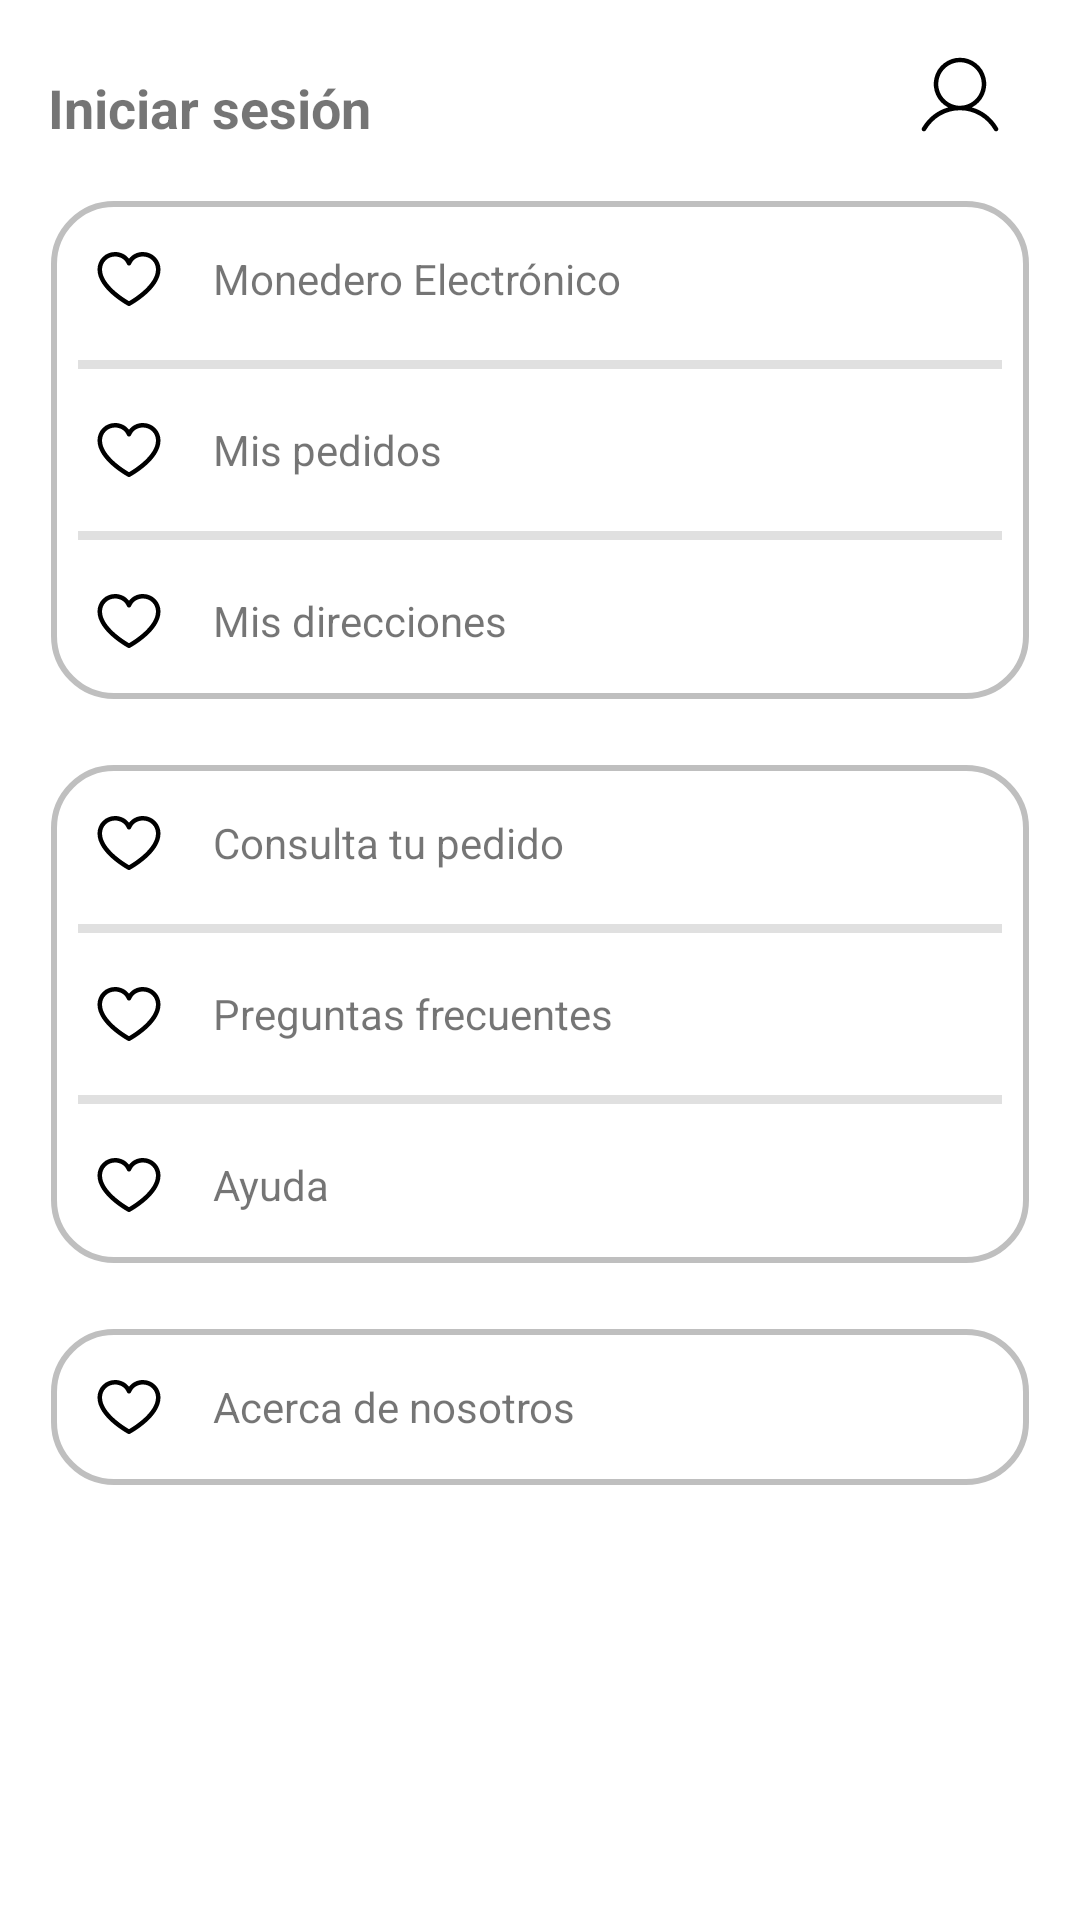

Where to tap for icons on this 1080 x 1920 app screen, as (x,y):
fav: (129,279), (129,450), (129,621), (129,843), (129,1014), (129,1185), (129,1407)
user: (960,94)
